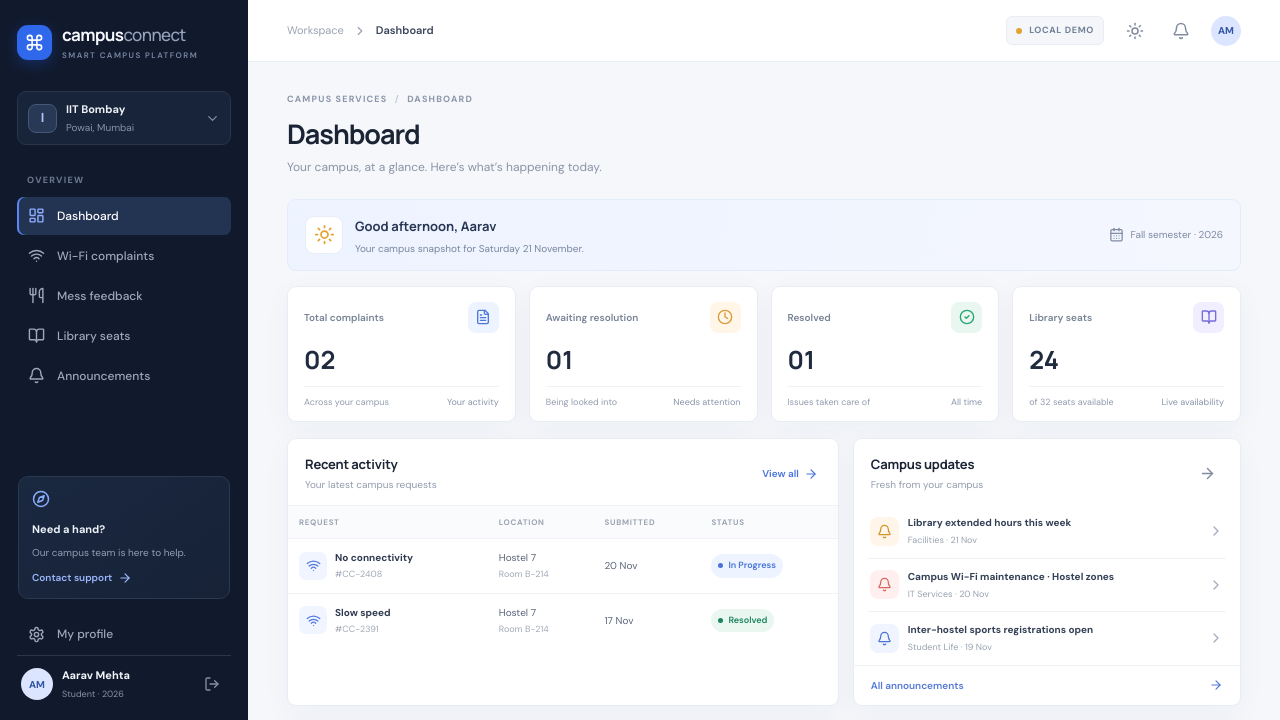
local demo user journeys › signs in and submits a Wi-Fi complaint
Earlier steps of the test are not shown.
Later steps or results of the test are not shown.
Expected: the heading "Dashboard" is shown, x1=287 y1=114 x2=420 y2=152
Click the link "Wi-Fi complaints". click: (91,256)
box: x1=28 y1=247 x2=154 y2=264
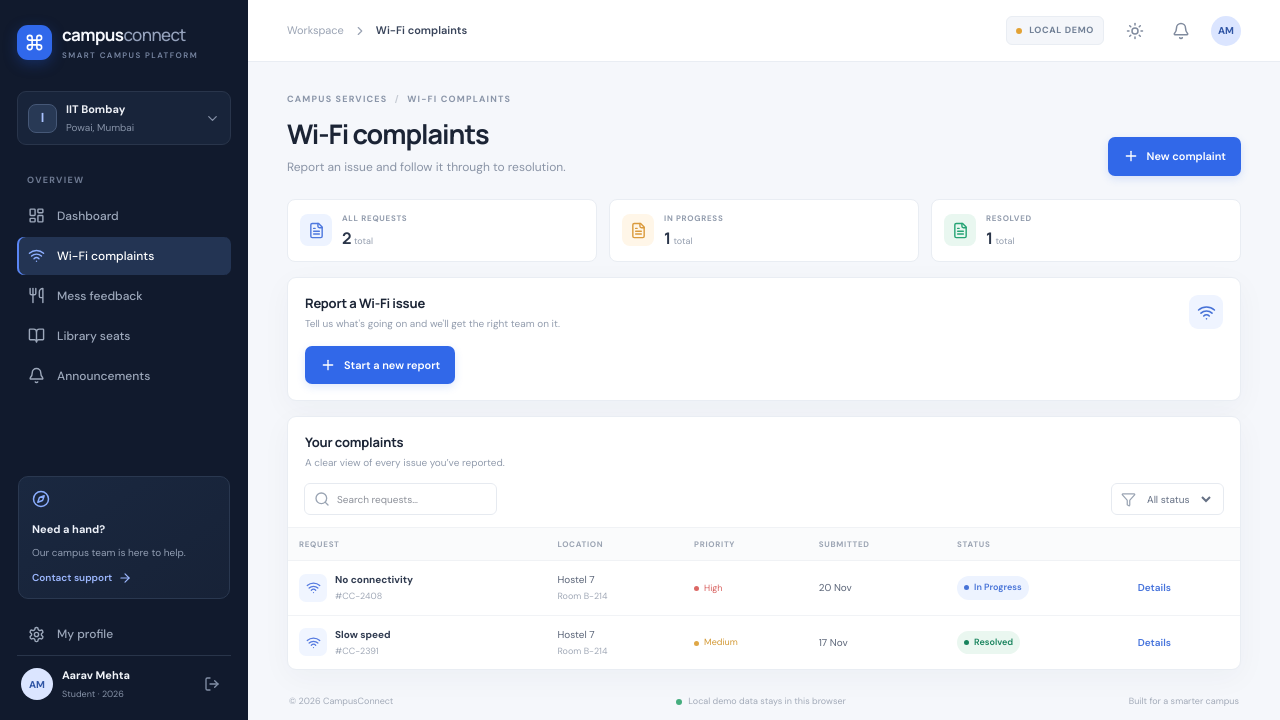
Now the heading "Wi-Fi complaints" is shown, box x1=287 y1=114 x2=489 y2=152
